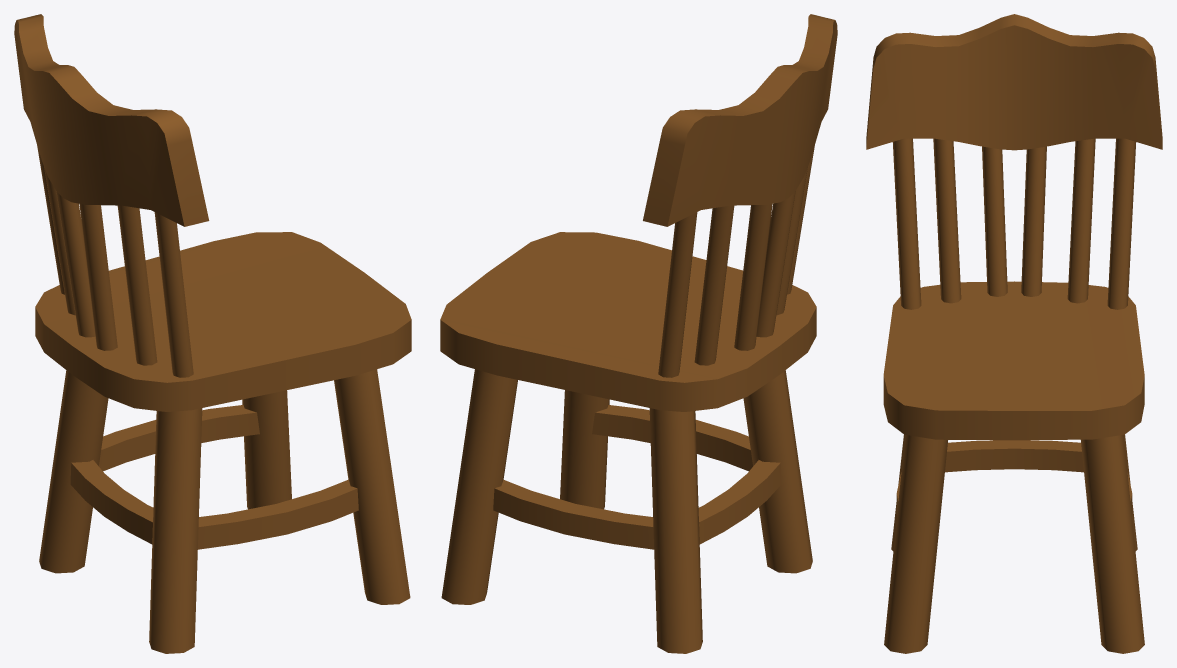
Rendered from chair.fbx.
The picture shows the model from 3 angles, left to right: view 1: azimuth 30°, elevation 25°; view 2: azimuth 150°, elevation 25°; view 3: azimuth 270°, elevation 25°; orthographic projection. The views are drawn at different scales.
Parts seen in each view (by area): view 1: chair_low; view 2: chair_low; view 3: chair_low.
Part boxes in pixels (x1,y1,x2,y2): chair_low: (14,14,411,653); chair_low: (440,14,837,653); chair_low: (866,14,1162,653).
Size of the model in its own units: 54.45 by 90.39 by 48.08.
